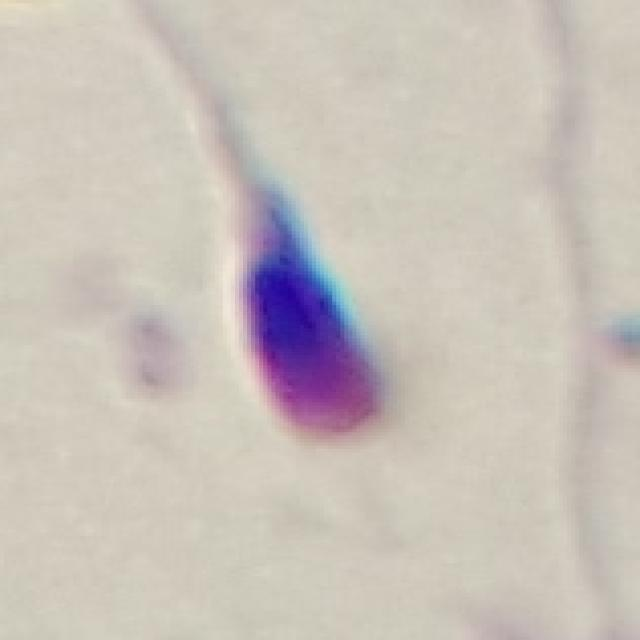abnormal sperm: (183, 59, 395, 452)
